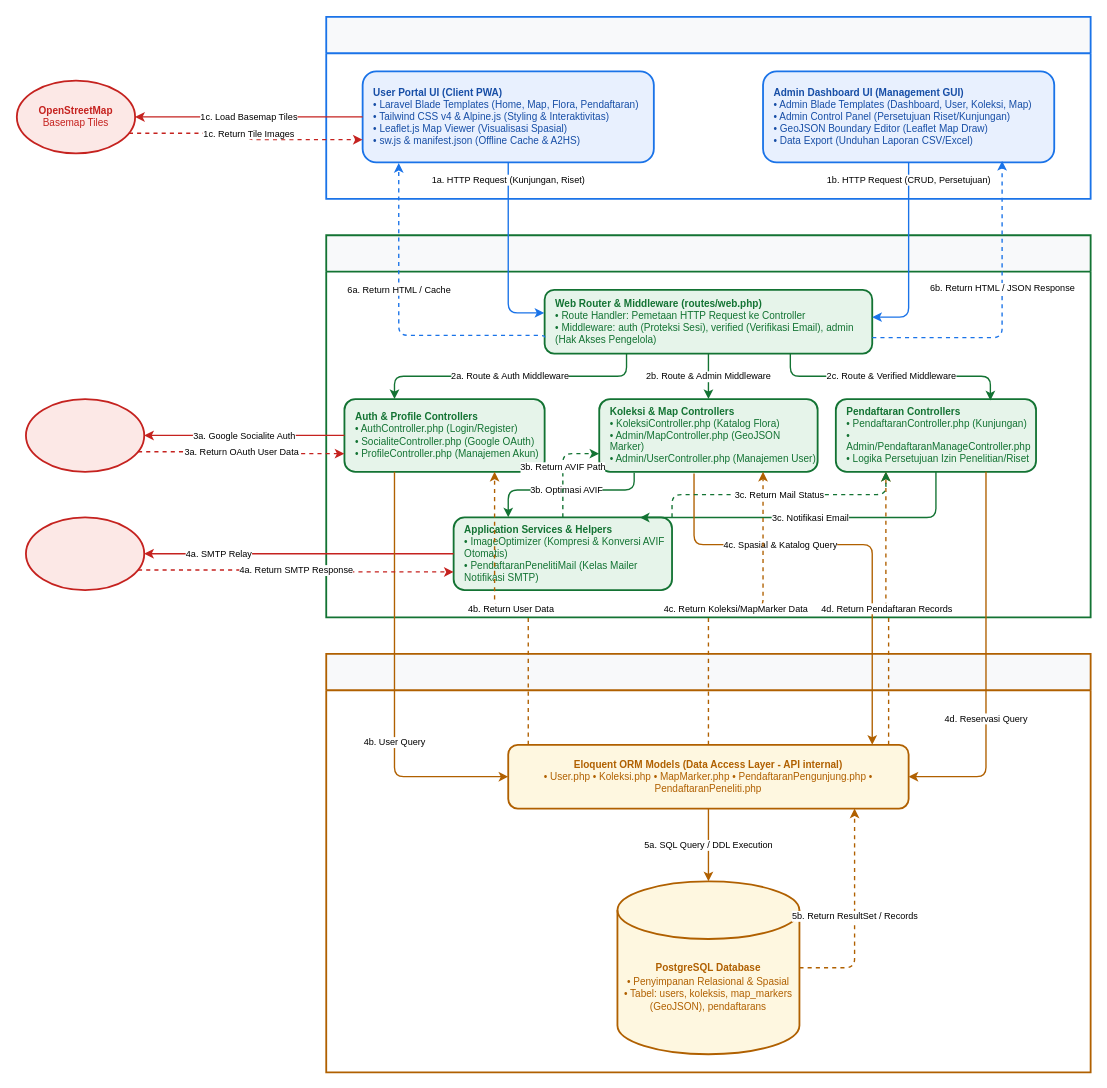
Some shapes in this 1107 by 1088 pixel diagram are drawn without their labels. The shapes that lost their labels are listed below. From the top down, each one's box as (x1, y1, x2, y2) in pixels, then its label:
(325, 15, 1091, 199): Presentation Tier (Client-Side & GUI)
(25, 398, 145, 472): Google OAuth API (Laravel Socialite)
(325, 234, 1091, 618): Application Tier (Server-Side Logic - Laravel 12)
(25, 516, 145, 591): SMTP Gmail Server (Notifikasi Admin)
(325, 652, 1091, 1073): Data Tier (Database & Data Access Layer)
